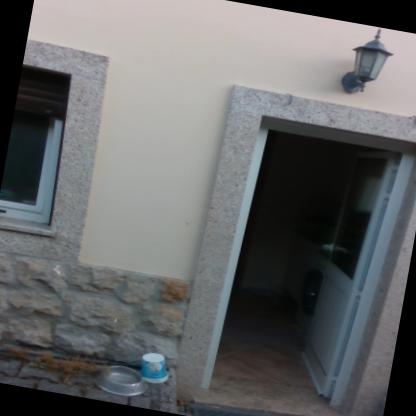open: (188, 94, 415, 415)
